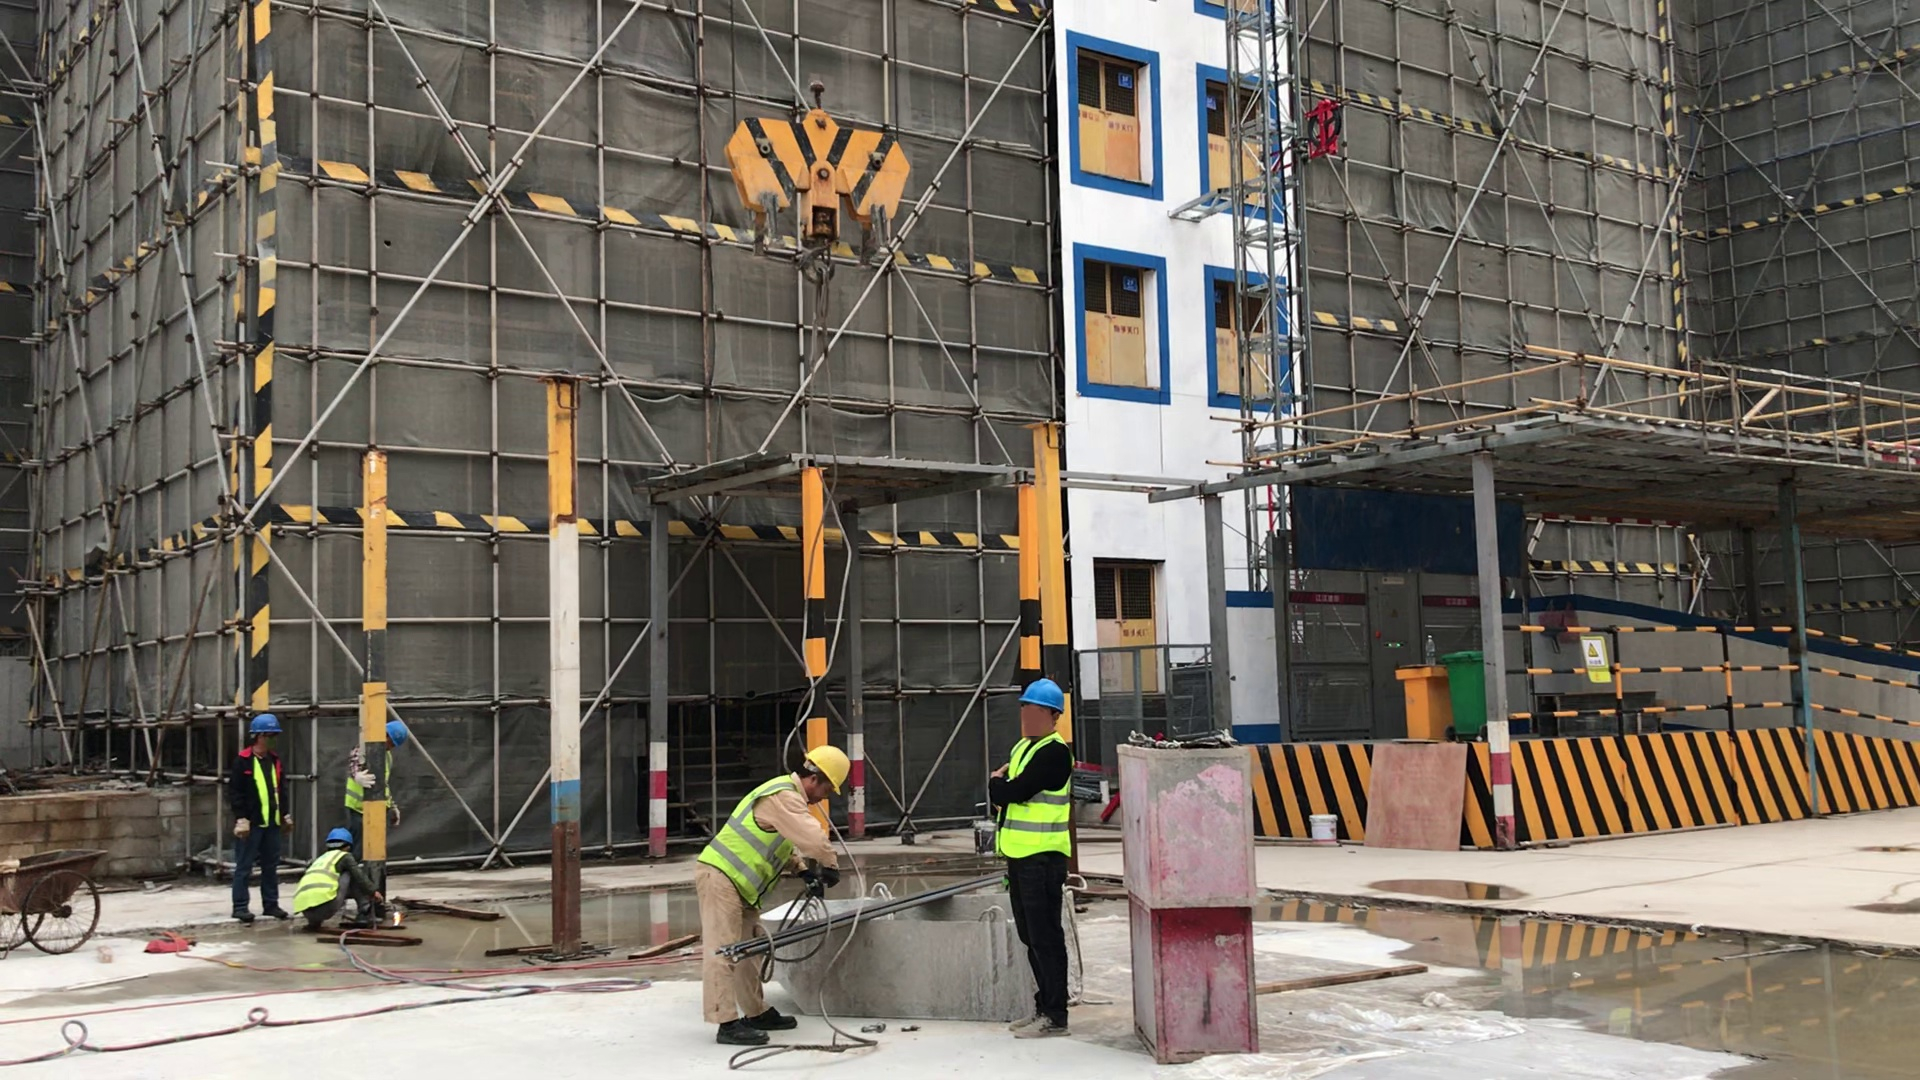board: (1359, 735, 1467, 863)
brick: (2, 777, 216, 887)
handcart: (4, 845, 103, 961)
helmet: (805, 743, 847, 795), (1017, 677, 1069, 714), (247, 709, 287, 735), (323, 827, 355, 848), (384, 719, 406, 745)
hook: (717, 106, 917, 291)
person: (690, 743, 852, 1050), (981, 675, 1078, 1040), (231, 709, 290, 927), (287, 823, 399, 938), (341, 719, 406, 824)
vest: (692, 770, 796, 910), (1000, 732, 1070, 860), (293, 849, 345, 920)
